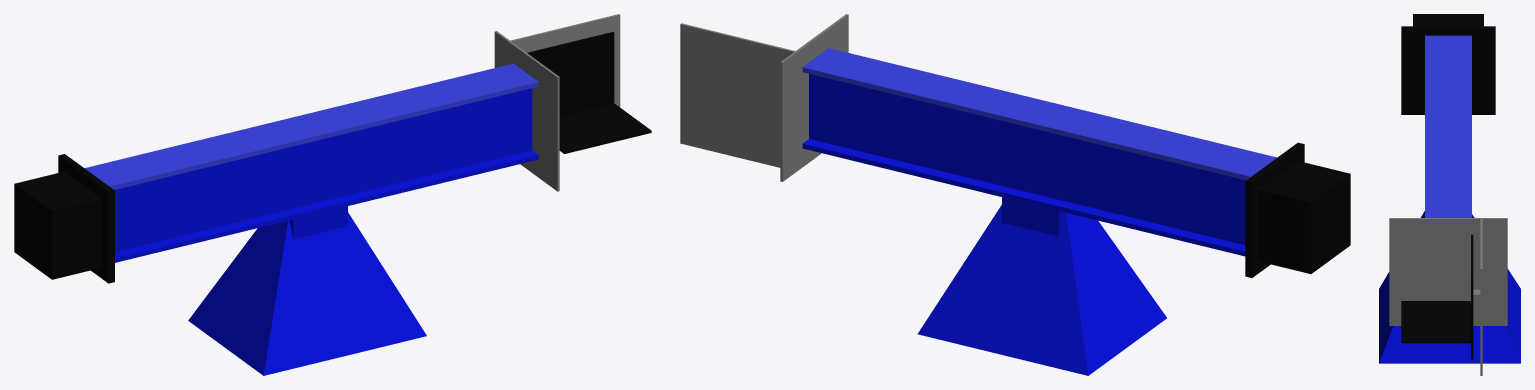
Rendered from centrifuga.dae.
3 views of the same model, side by side, from view 1: azimuth 30°, elevation 25°; view 2: azimuth 150°, elevation 25°; view 3: azimuth 270°, elevation 25° (orthographic). The views are drawn at different scales.
Parts seen in each view (by area): view 1: Cube.011; view 2: Cube.011; view 3: Cube.011.
Part boxes in pixels (left/top/right/bottom): Cube.011: left=14, top=14, right=651, bottom=375; Cube.011: left=680, top=14, right=1350, bottom=375; Cube.011: left=1379, top=14, right=1520, bottom=375.
Size of the model in its own units: 554 by 120 by 194.
